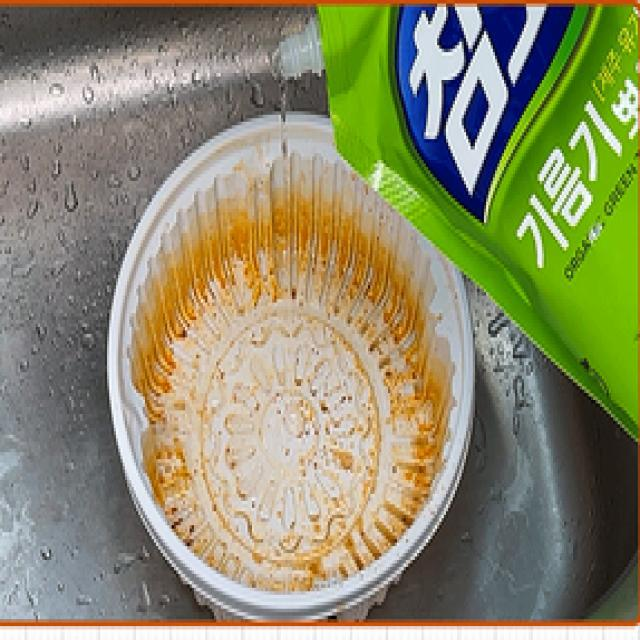bottle: (104, 67, 482, 640)
